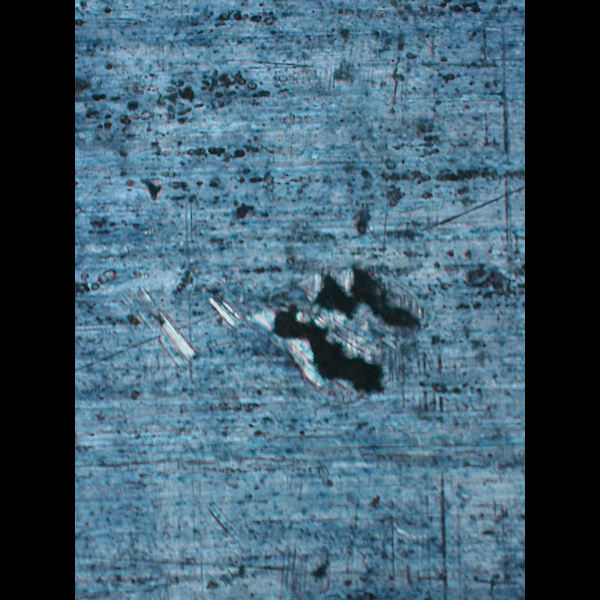d: (191, 251, 418, 403)
